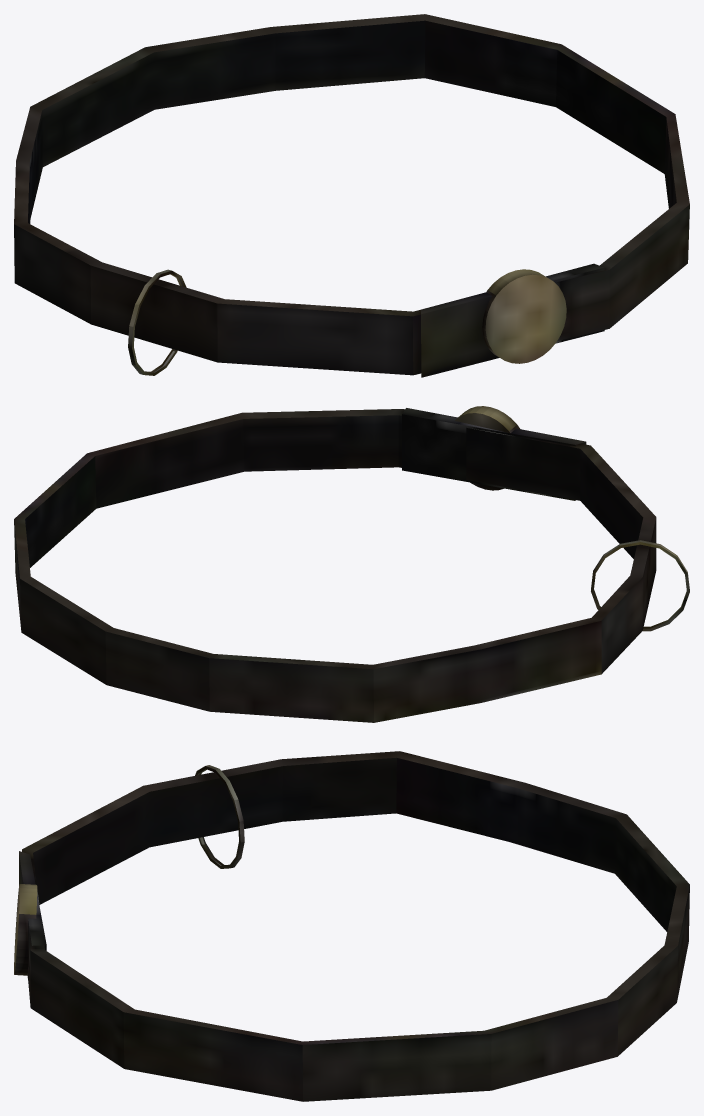
The model's file is namtag animals.fbx.
3 views of the same model, one above another, from view 1: azimuth 30°, elevation 25°; view 2: azimuth 150°, elevation 25°; view 3: azimuth 270°, elevation 25° (orthographic). The views are drawn at different scales.
Visible parts, largest first — view 1: BezierCurve; view 2: BezierCurve; view 3: BezierCurve.
Part boxes in pixels (x1,y1,x2,y2): BezierCurve: [14, 14, 689, 377]; BezierCurve: [14, 406, 689, 722]; BezierCurve: [14, 751, 689, 1101].
Bounding box in the file's own units: 33.51 × 5.5 × 32.88.
